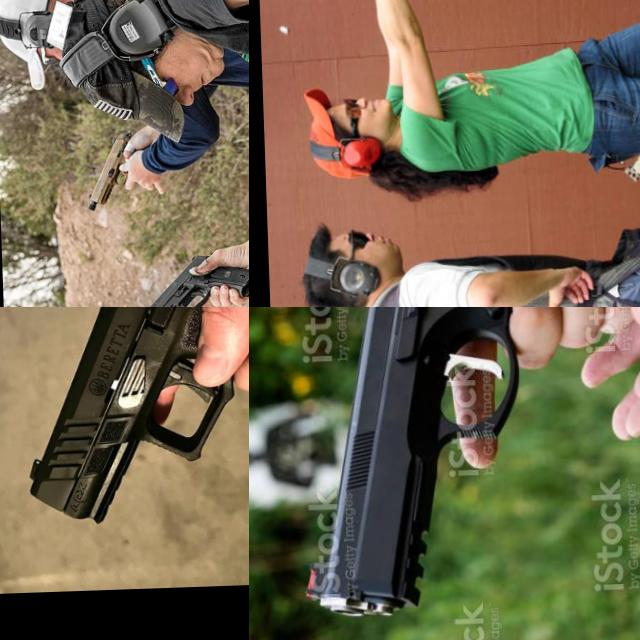handgun: (288, 307, 640, 623), (13, 307, 249, 528), (134, 249, 249, 307), (82, 130, 142, 213), (327, 0, 392, 28)
